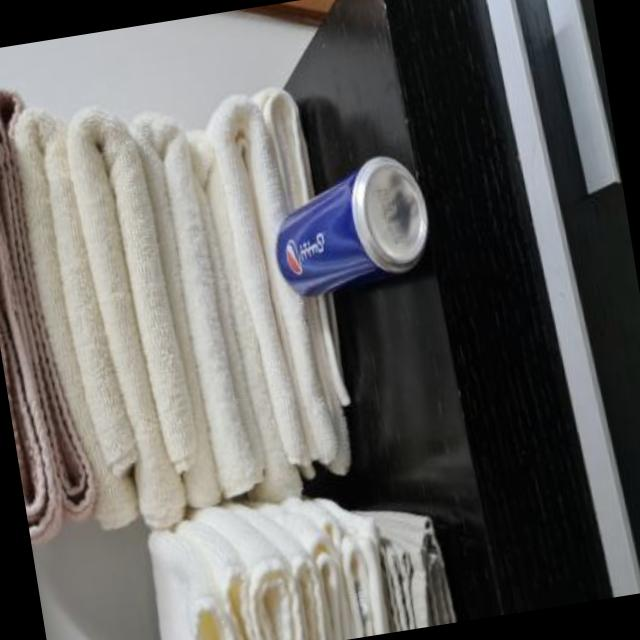metal: (275, 159, 426, 298)
